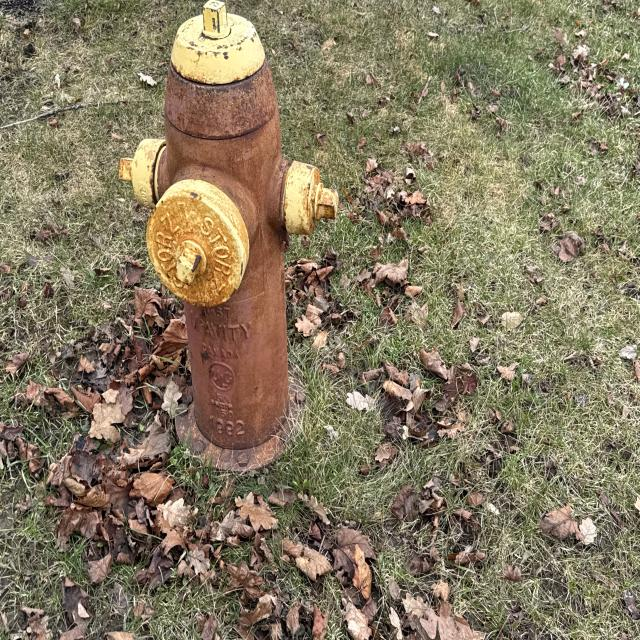Fire hydrant: (127, 1, 340, 480)
